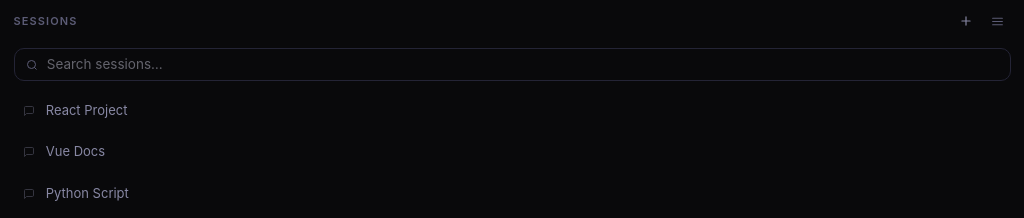
Scenario: SessionSidebar › filters sessions by title
This screenshot has width=1024, height=218.
Type search query
Type "react" into the field with placeholder "Search sessions…" at coordinates (523, 65), box [47,56,998,74]
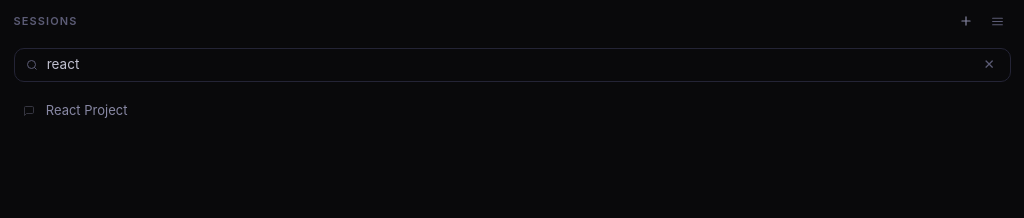
expect the text "React Project" is shown: met, box [46,102,128,118]
expect the text "Vue Docs" is gone: met
